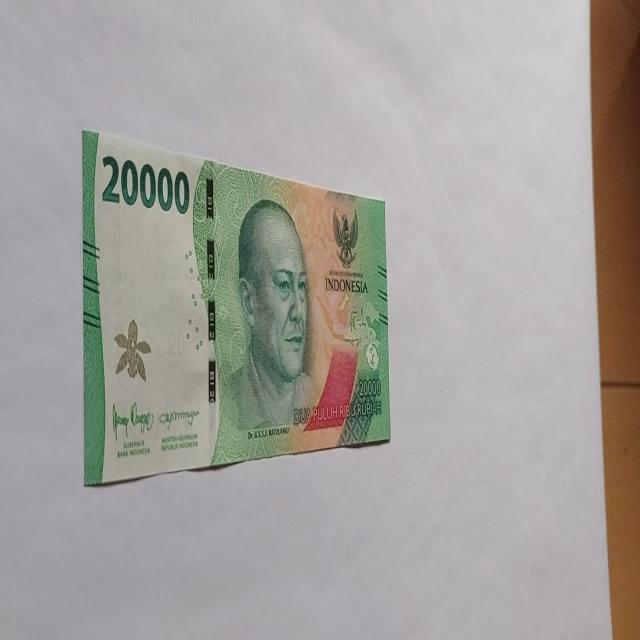dua puluh ribu rupiah: (80, 127, 392, 486)
